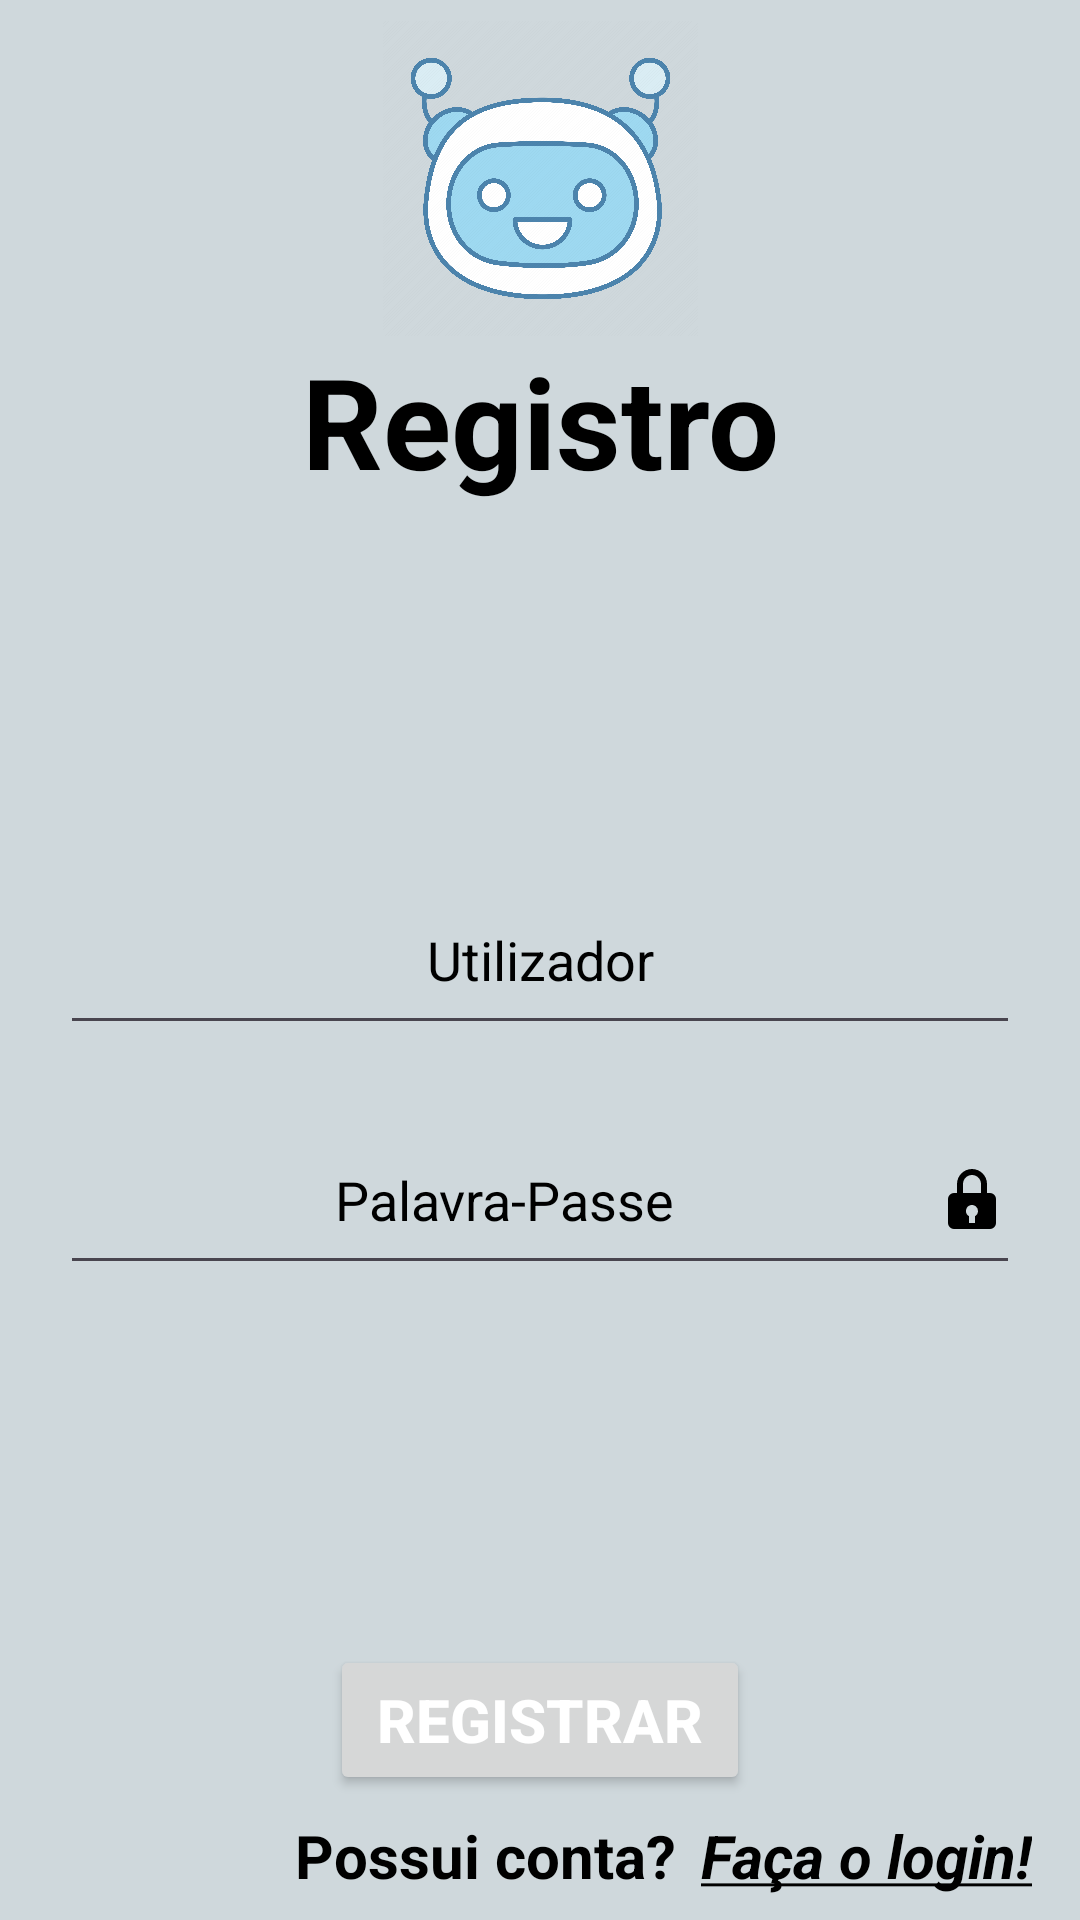

Screen size 1080*1920. Icon name, then its center in pixels as point (x, y):
chatbot: point (540, 178)
